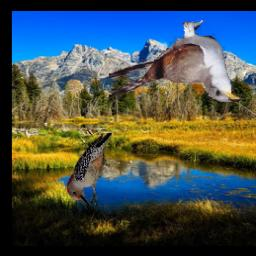Cuckoo: (108, 21, 241, 103)
Woodpecker: (66, 133, 111, 205)
